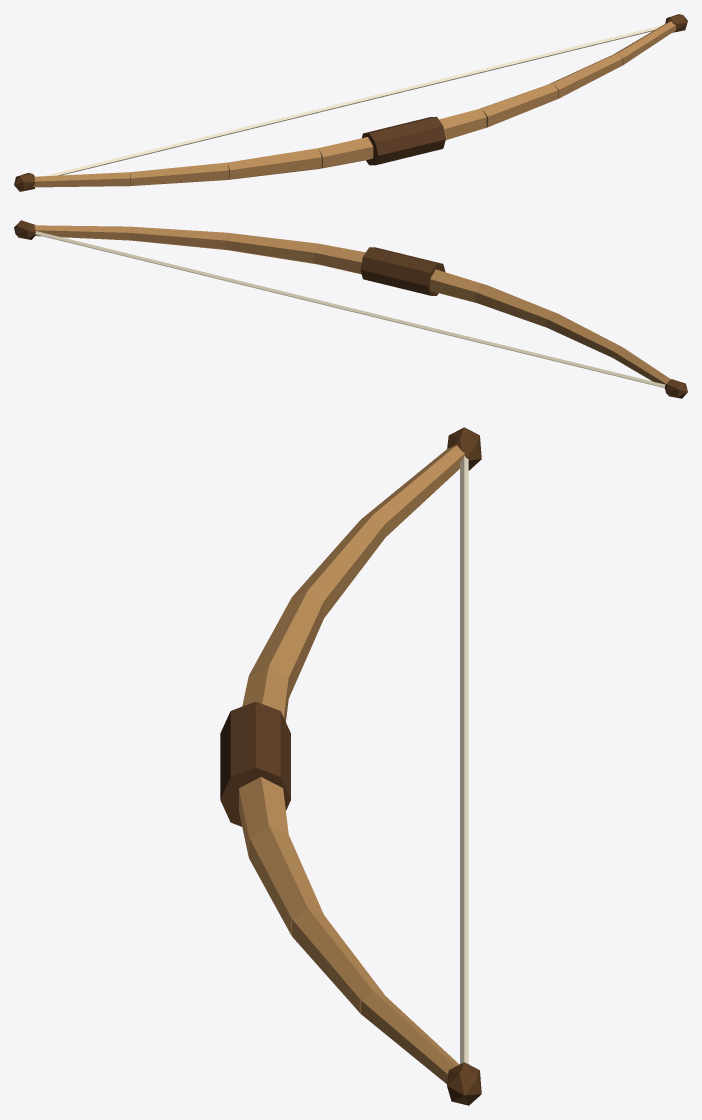
File: drop_longbow.glb
3 renders of one model, top to bottom at view 1: azimuth 30°, elevation 25°; view 2: azimuth 150°, elevation 25°; view 3: azimuth 270°, elevation 25°, orthographic. The views are drawn at different scales.
Visible parts, largest first — view 1: drop_longbow; view 2: drop_longbow; view 3: drop_longbow.
Boxes of the visible parts, box(x1,y1,x2,y2) form: drop_longbow: box(14, 14, 687, 191); drop_longbow: box(14, 220, 687, 398); drop_longbow: box(220, 427, 481, 1105).
Size of the model in its own units: 1.19 by 0.0544 by 0.2006.
